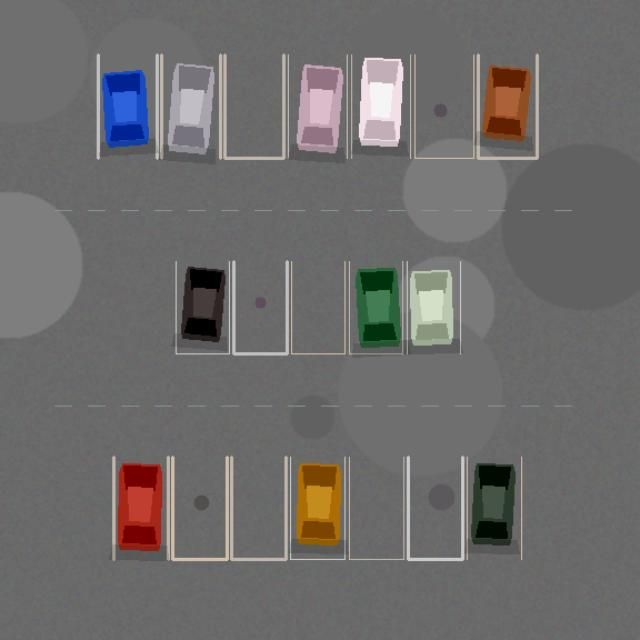space-empty: (224, 54, 283, 158), (414, 54, 473, 158), (172, 457, 227, 559), (231, 457, 286, 559), (349, 457, 403, 559), (408, 457, 462, 559), (233, 261, 287, 353), (291, 261, 344, 353)
space-occupied: (98, 54, 157, 158), (161, 54, 220, 158), (288, 54, 347, 158), (351, 54, 410, 158), (478, 54, 537, 158), (113, 457, 168, 559), (290, 457, 344, 559), (467, 457, 521, 559), (176, 261, 229, 353), (349, 261, 402, 353), (407, 261, 460, 353)
